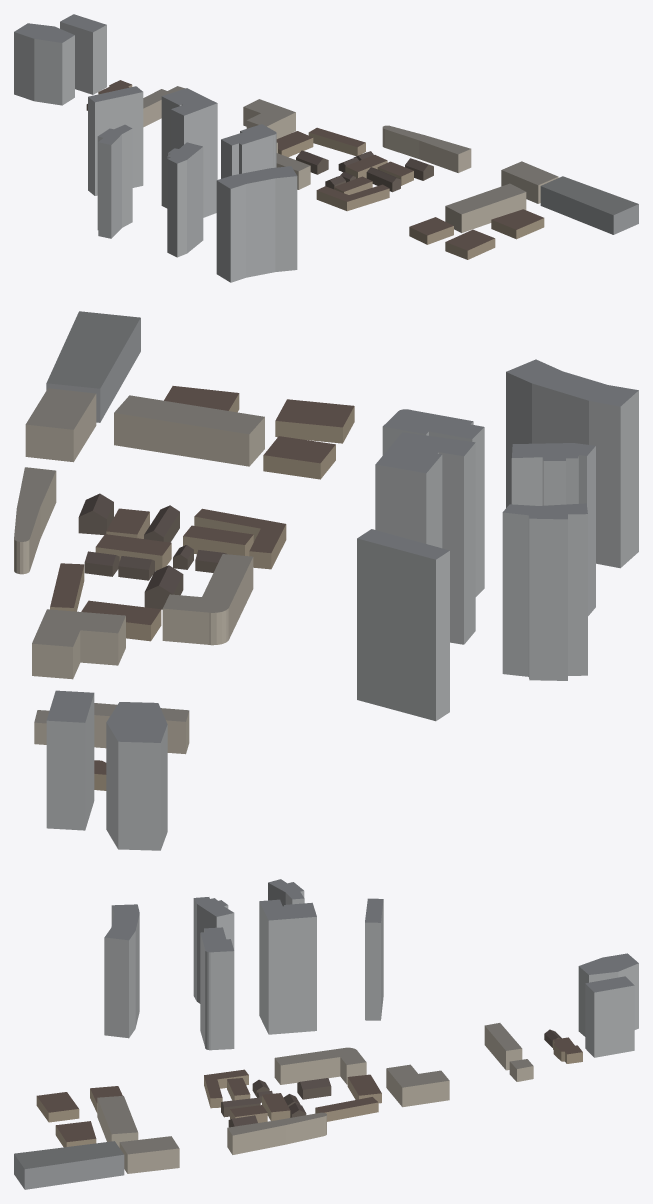
The model's file is tile_9_6.glb.
3 views of the same model, one above another, from view 1: azimuth 30°, elevation 25°; view 2: azimuth 150°, elevation 25°; view 3: azimuth 270°, elevation 25° (orthographic). The views are drawn at different scales.
Visible parts, largest first — view 1: HP-w293563955, HP-w505655121, HP-w505655112, HP-w505655109, HP-w505655110, HP-w505655113, HP-w859488824, HP-w858839000, HP-w859488820, HP-w858839045, HP-w859488816, HP-w781767763 (+15 smaller); view 2: HP-w505655113, HP-w505655110, HP-w293563955, HP-w505655112, HP-w505655121, HP-w859488820, HP-w858839000, HP-w859488824, HP-w505655109, HP-w859488814, HP-w781767763, HP-w859488823 (+17 smaller); view 3: HP-w505655112, HP-w293563955, HP-w858839045, HP-w859488824, HP-w858839000, HP-w859488816, HP-w859488814, HP-w505655113, HP-w781767763, HP-w505655121, HP-w505655109, HP-w859488823 (+13 smaller).
Boxes of the visible parts, <box> form: HP-w293563955: <box>216,166,297,282</box>; HP-w505655121: <box>14,23,74,105</box>; HP-w505655112: <box>161,88,217,217</box>; HP-w505655109: <box>167,142,203,257</box>; HP-w505655110: <box>97,124,132,238</box>; HP-w505655113: <box>88,86,143,195</box>; HP-w859488824: <box>540,176,638,234</box>; HP-w858839000: <box>60,14,106,94</box>; HP-w859488820: <box>445,183,526,232</box>; HP-w858839045: <box>221,124,276,178</box>; HP-w859488816: <box>382,125,471,172</box>; HP-w781767763: <box>243,99,295,138</box>; HP-w505655113: <box>357,529,449,721</box>; HP-w505655110: <box>502,503,587,680</box>; HP-w293563955: <box>506,359,638,568</box>; HP-w505655112: <box>375,432,475,644</box>; HP-w505655121: <box>106,702,167,850</box>; HP-w859488820: <box>114,395,264,466</box>; HP-w858839000: <box>46,690,94,830</box>; HP-w859488824: <box>46,311,140,422</box>; HP-w505655109: <box>511,443,595,615</box>; HP-w859488814: <box>162,554,253,645</box>; HP-w781767763: <box>32,609,125,679</box>; HP-w859488823: <box>25,388,96,462</box>; HP-w505655112: <box>259,899,316,1034</box>; HP-w293563955: <box>104,904,139,1038</box>; HP-w858839045: <box>200,927,234,1050</box>; HP-w859488824: <box>14,1141,124,1189</box>; HP-w858839000: <box>585,976,634,1057</box>; HP-w859488816: <box>227,1112,326,1154</box>; HP-w859488814: <box>274,1047,366,1084</box>; HP-w505655113: <box>365,898,383,1020</box>; HP-w781767763: <box>386,1064,449,1107</box>; HP-w505655121: <box>578,953,638,1036</box>; HP-w505655109: <box>193,897,234,1003</box>; HP-w859488823: <box>119,1136,179,1173</box>.
Bounding box in the file's own units: 420 × 105 × 521.
